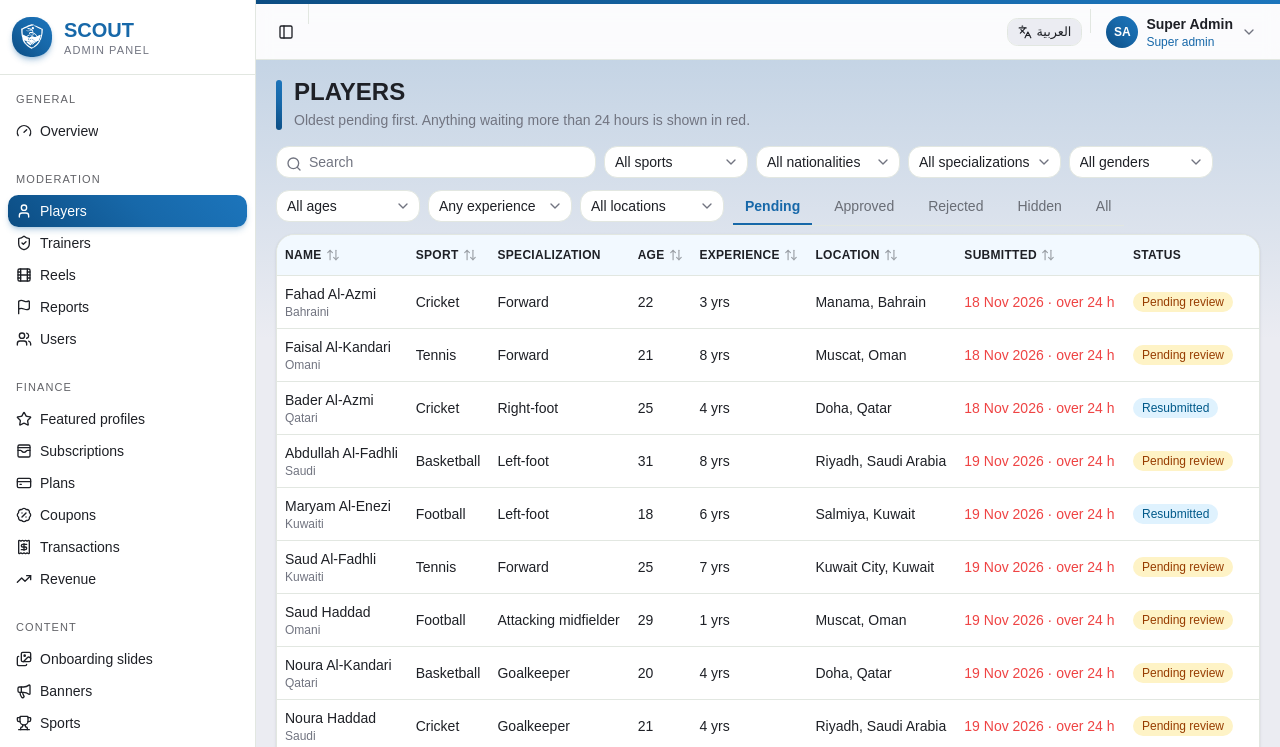
clickable dashboard › approves a pending player from the queue
Step 1. Type "Omar Al-Sabah" into the field labelled "Search" → (436, 162), box [276, 146, 596, 178]
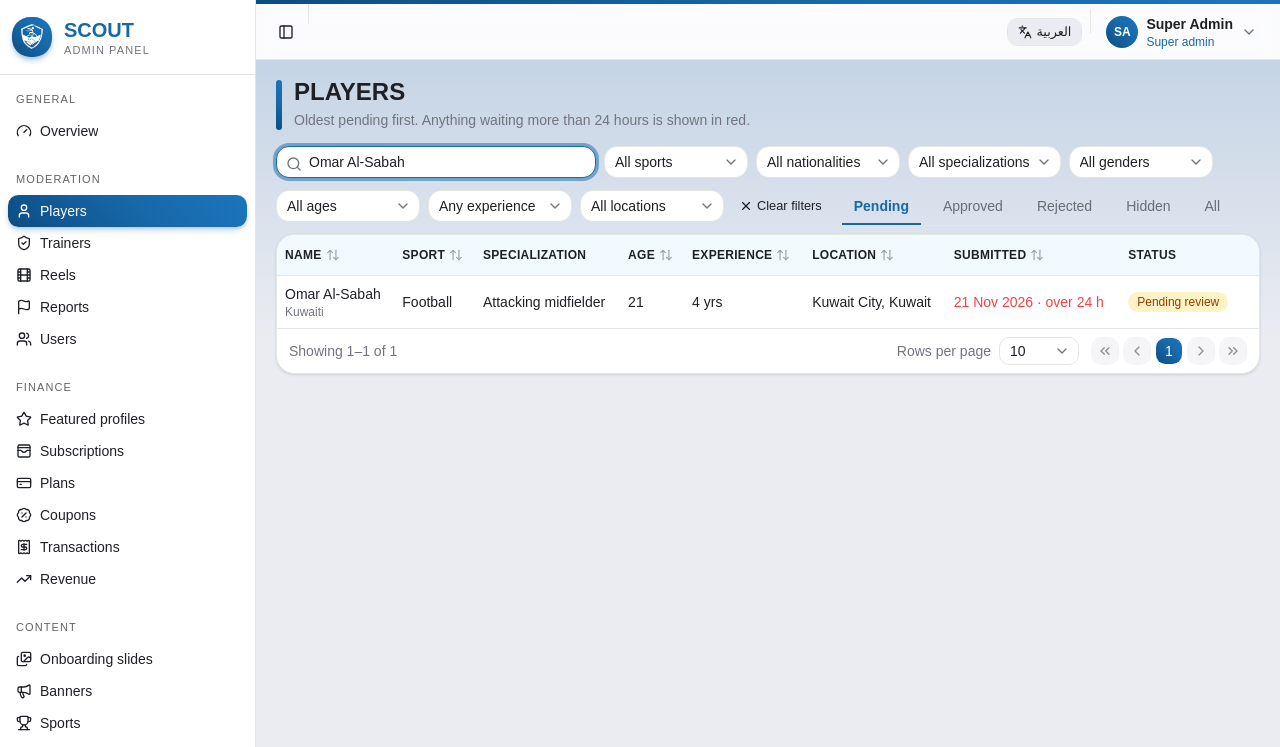
Step 2. Click the text "Omar Al-Sabah" → (333, 294), box [285, 286, 381, 302]
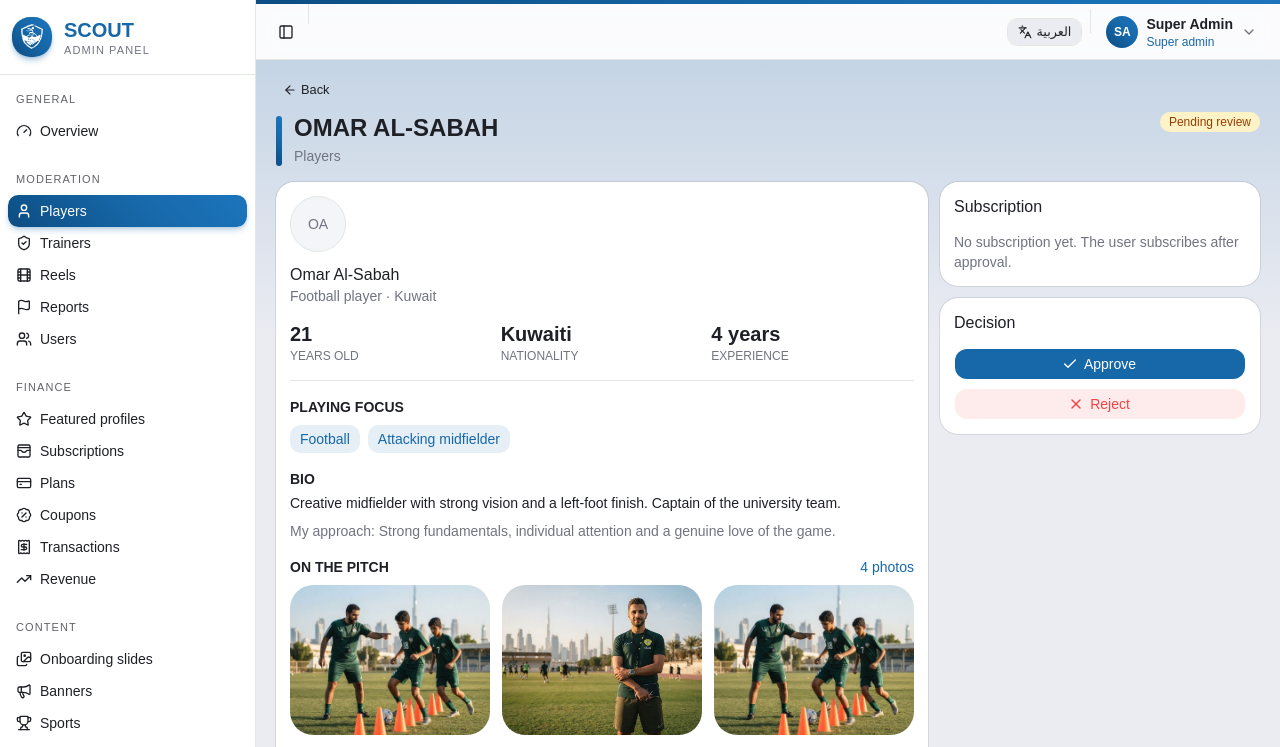
Step 3. Click the button "Approve" → (1100, 364), box [954, 348, 1246, 380]
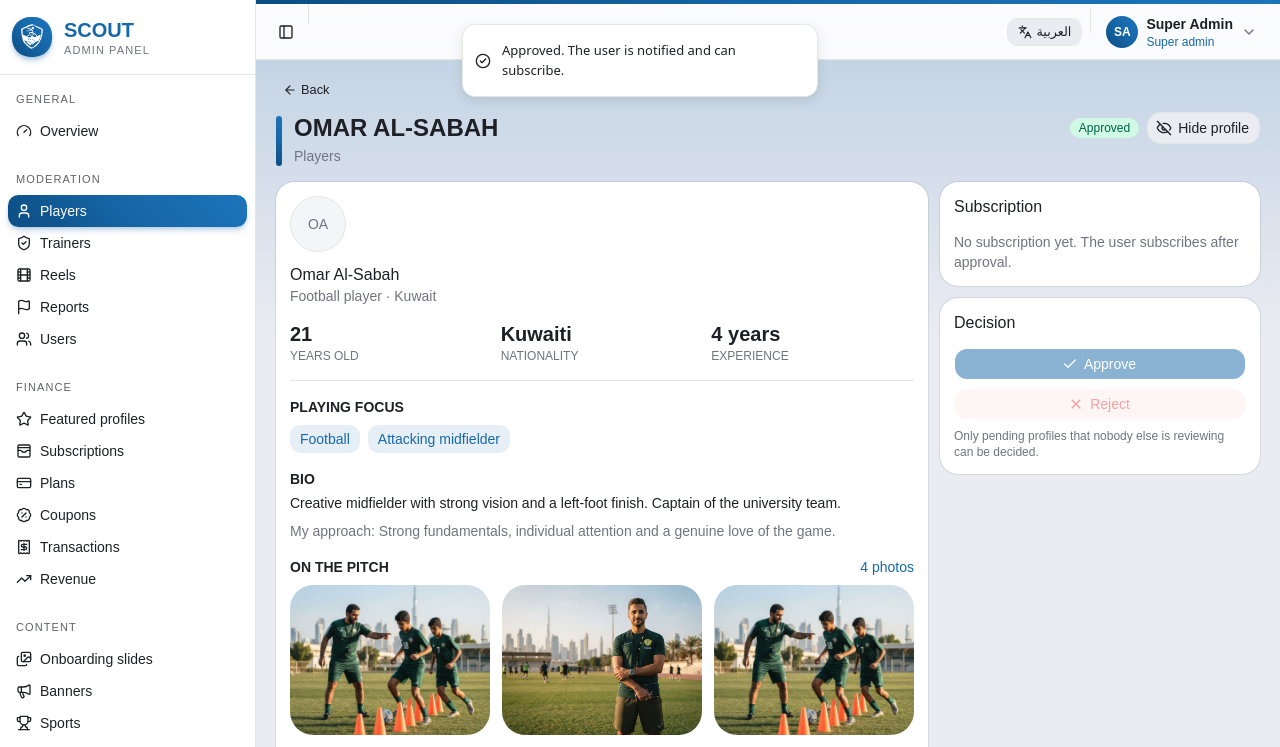
expect the text "Approved" is shown: met, box [1070, 118, 1139, 138]
